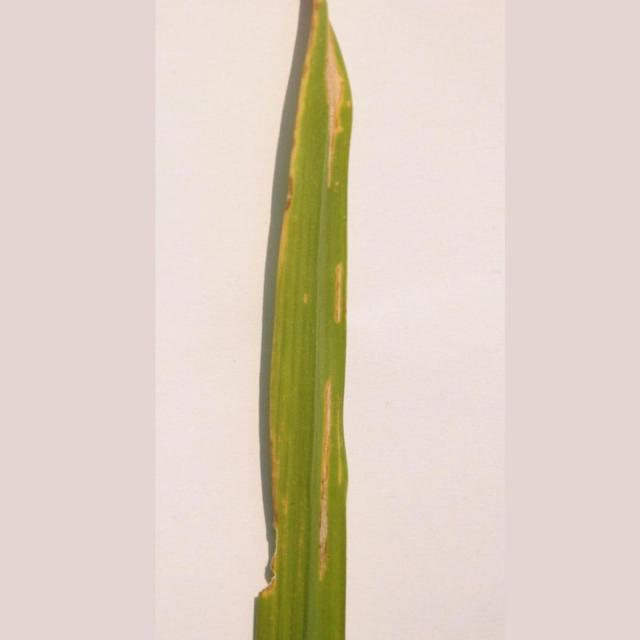Bacterial leaf blight: (260, 1, 311, 618), (321, 19, 352, 194), (314, 373, 338, 594), (326, 252, 352, 338), (298, 285, 314, 317)
